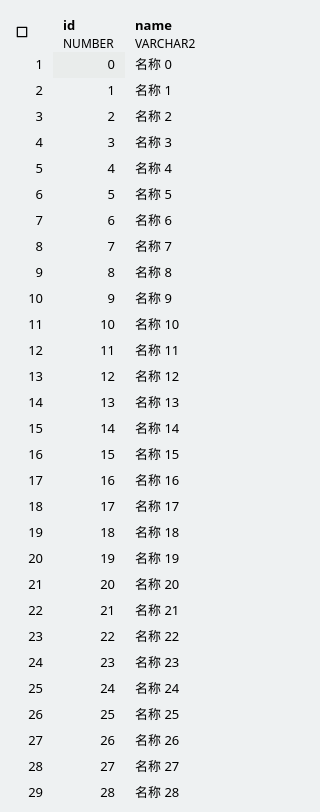
it: 双击可编辑的格子进入编辑，既不弹提示也不开详情
Press the mouse on the cell with id "dbx-cell-0-1" at (153, 64), box [135,55,172,73]
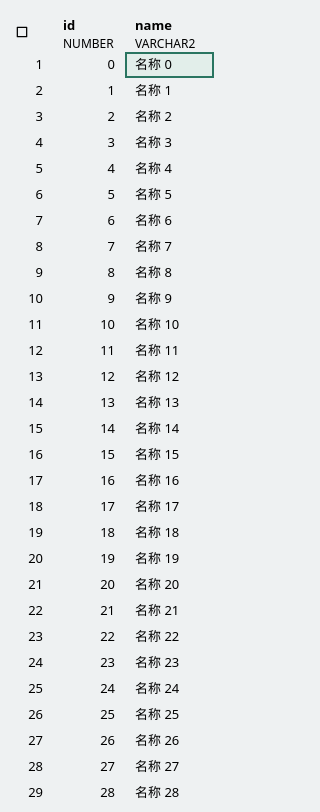
Double-click the cell with id "dbx-cell-0-1" at (170, 65), box [125,52,214,78]
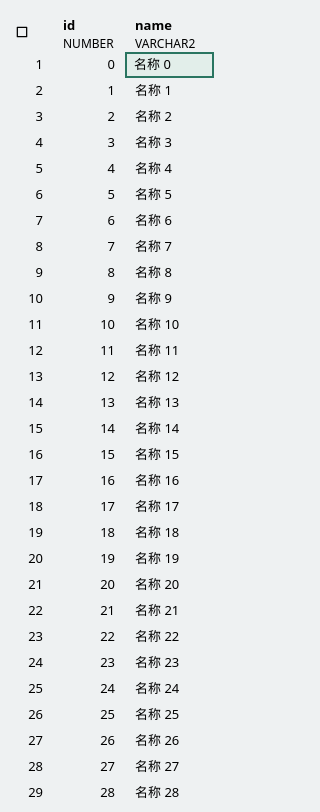
Check: the field with class "dbx-gedit" is shown, box [125,52,214,76]
